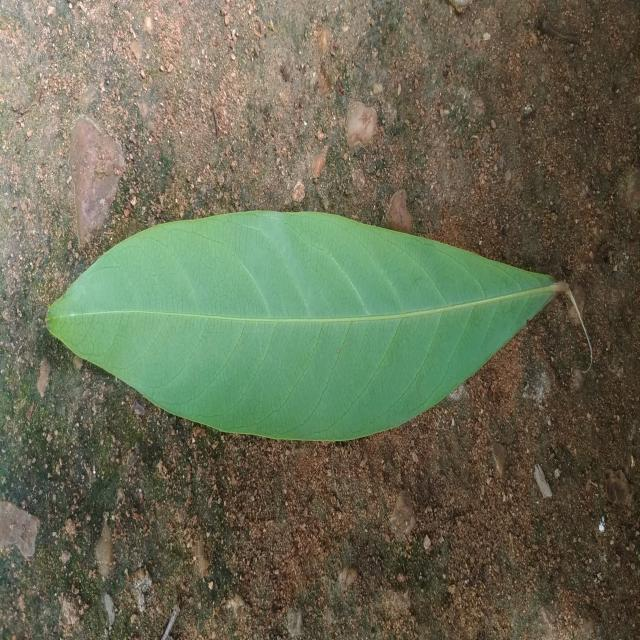seethaashoka: (48, 211, 560, 440)
